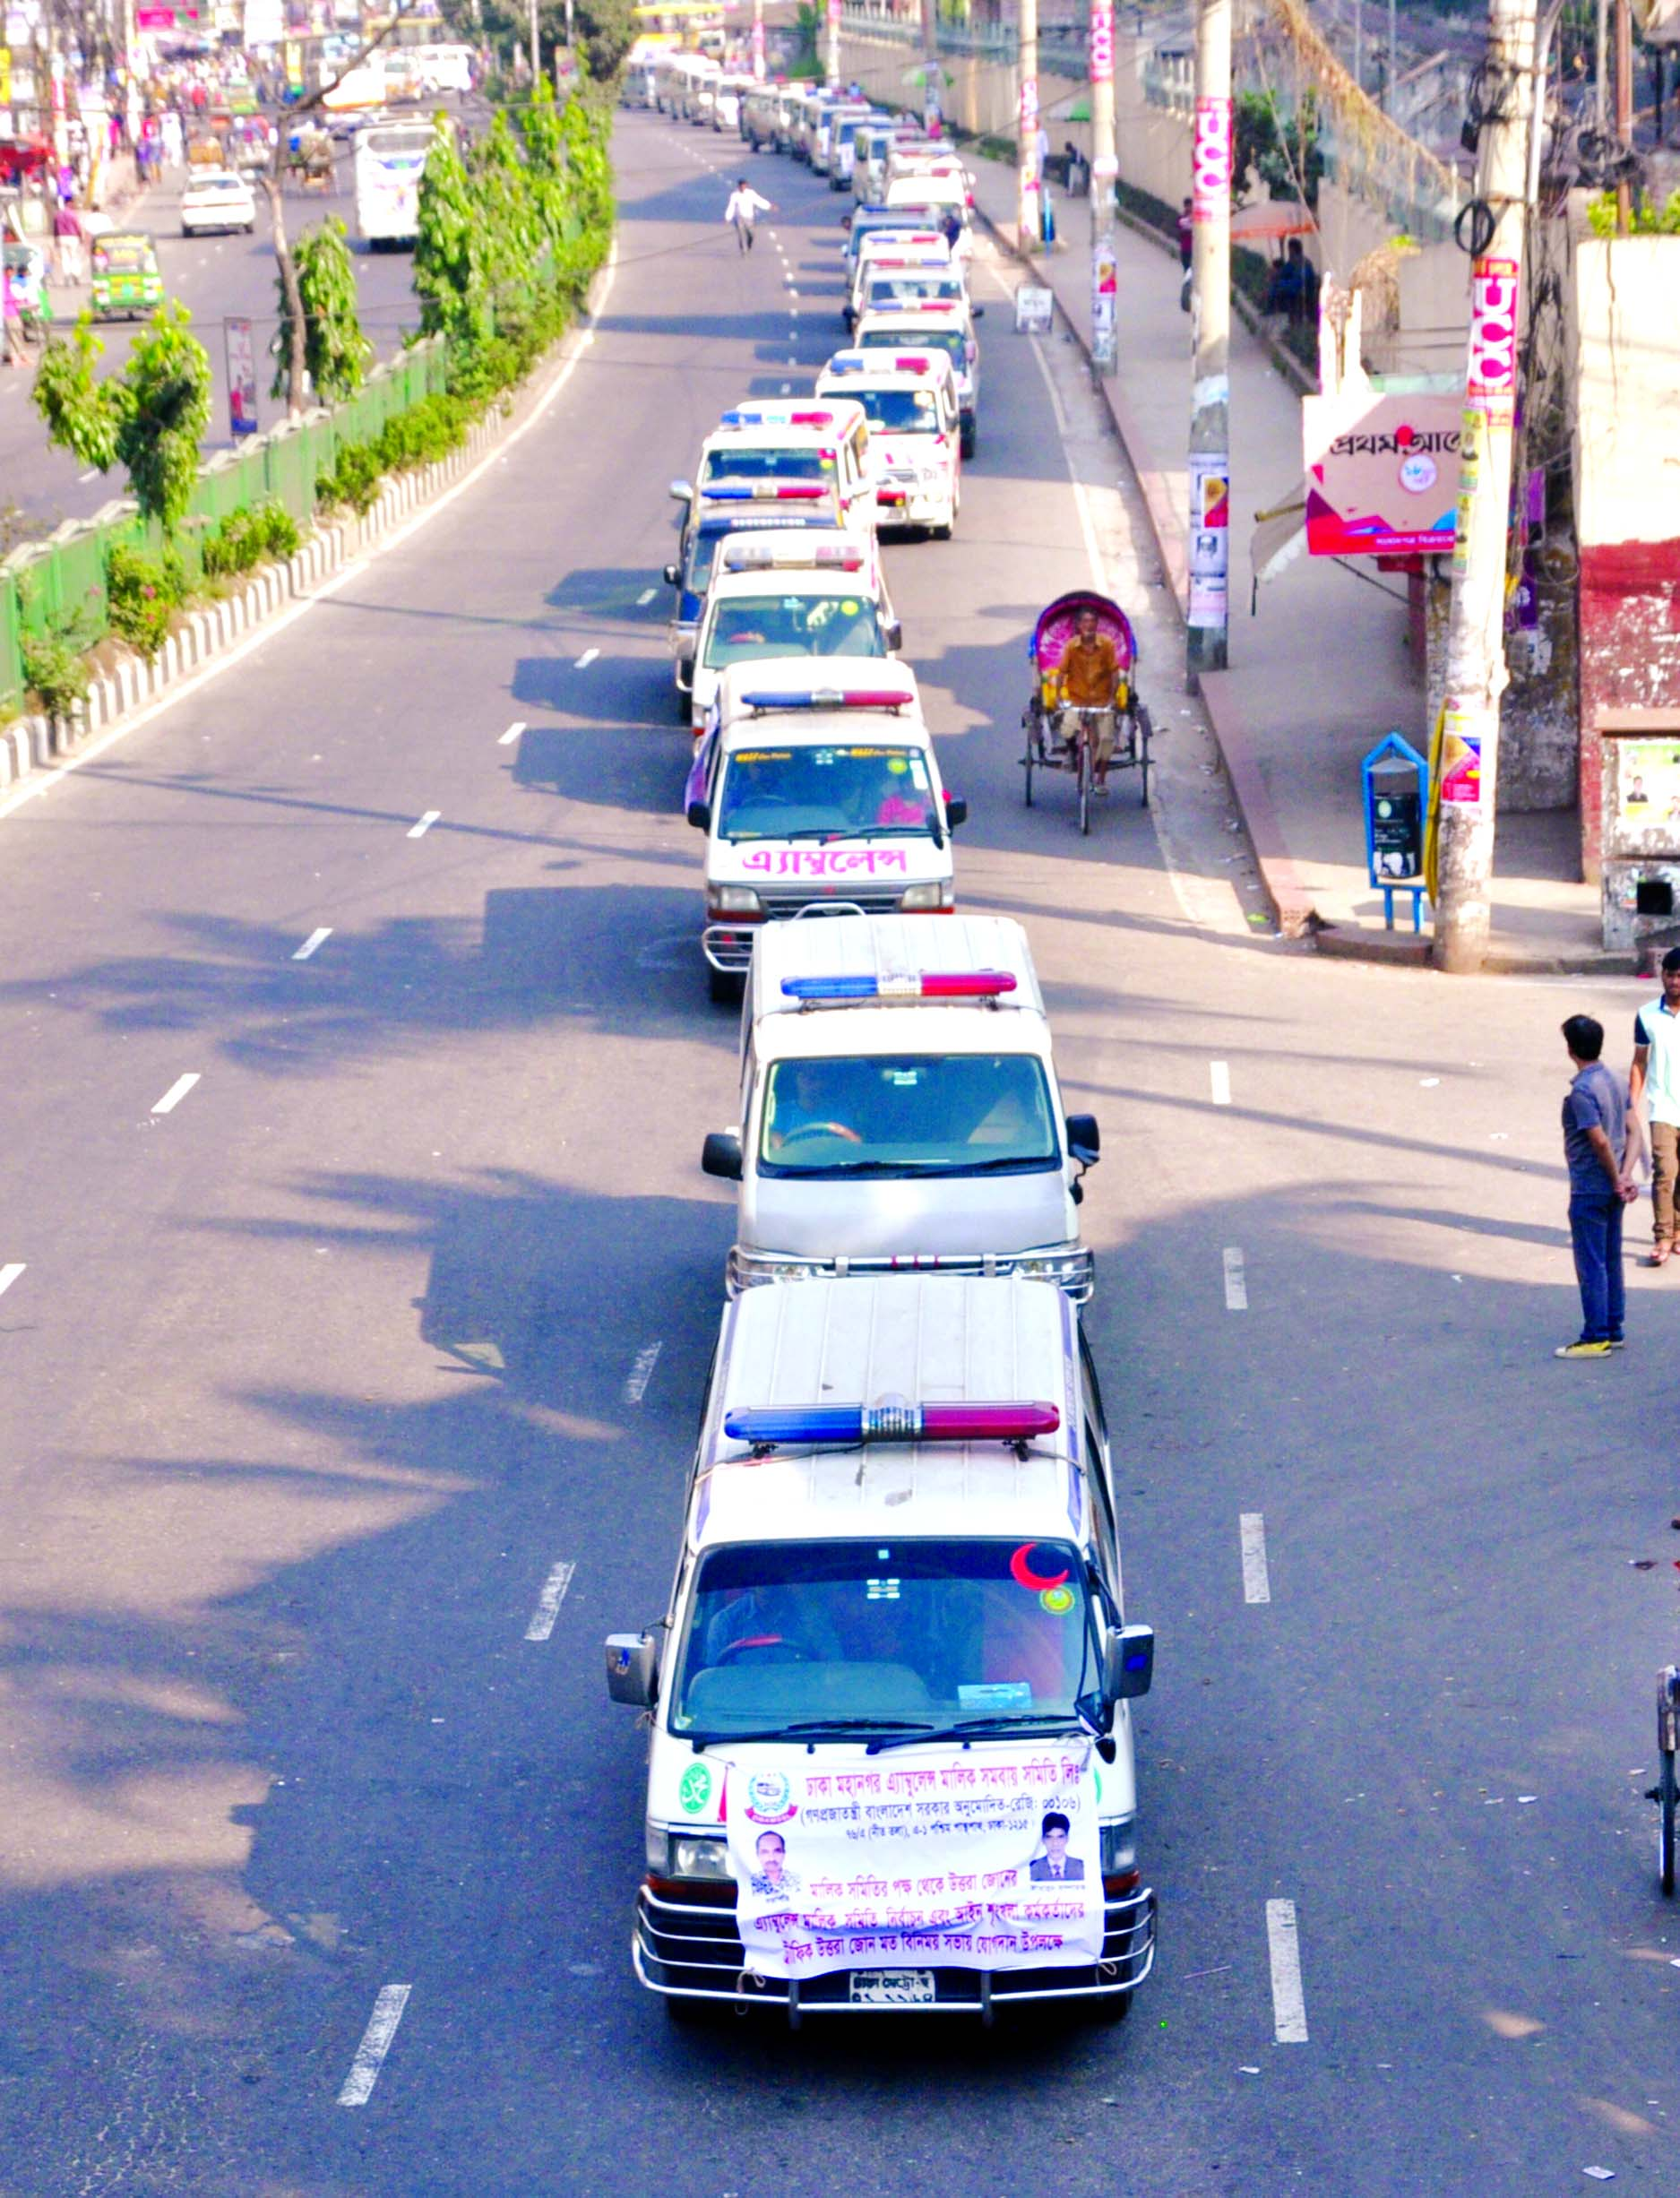ambulance: (607, 1274, 1159, 2020), (697, 907, 1108, 1302), (697, 656, 958, 979), (685, 524, 912, 656), (817, 344, 964, 540), (667, 392, 872, 517), (838, 298, 1004, 443), (851, 228, 972, 302), (805, 95, 863, 173), (743, 76, 792, 155), (882, 164, 971, 208), (844, 201, 942, 235), (852, 127, 884, 201), (713, 71, 743, 136), (882, 145, 964, 166), (829, 111, 851, 185)
bus: (348, 118, 466, 245), (305, 60, 390, 127)
car: (180, 171, 258, 236)
rickshaw: (1013, 593, 1154, 836), (296, 129, 339, 199), (228, 116, 274, 173)
three wheelers (CNG): (88, 233, 164, 318)
